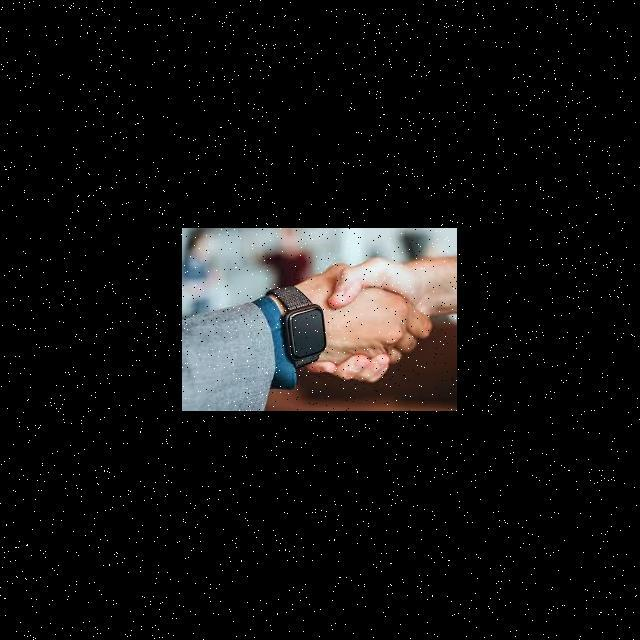watch: (262, 275, 325, 350)
